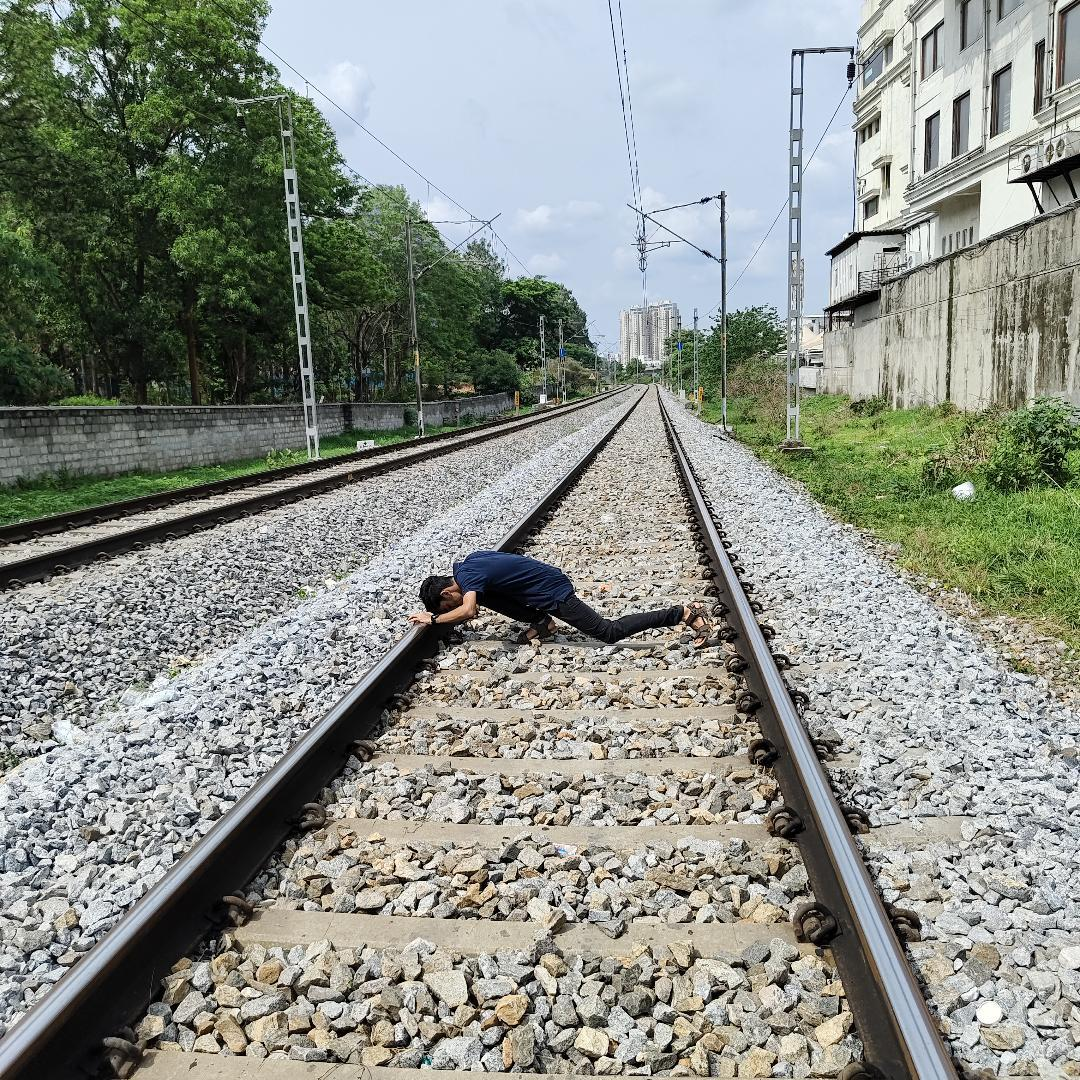sleeping: (381, 543, 731, 664)
track: (0, 384, 990, 1080)
